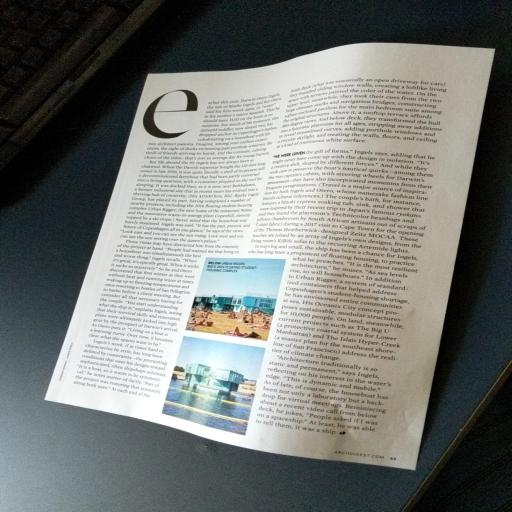paper: (10, 25, 496, 501)
